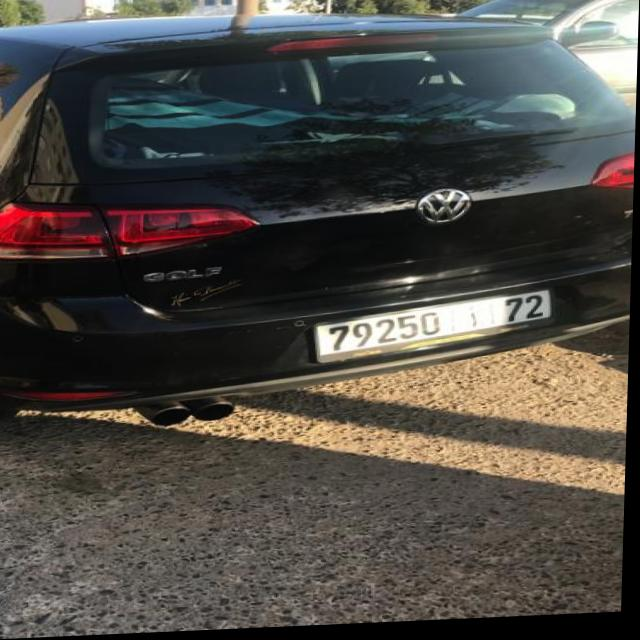License-Plate: (320, 294, 557, 358)
